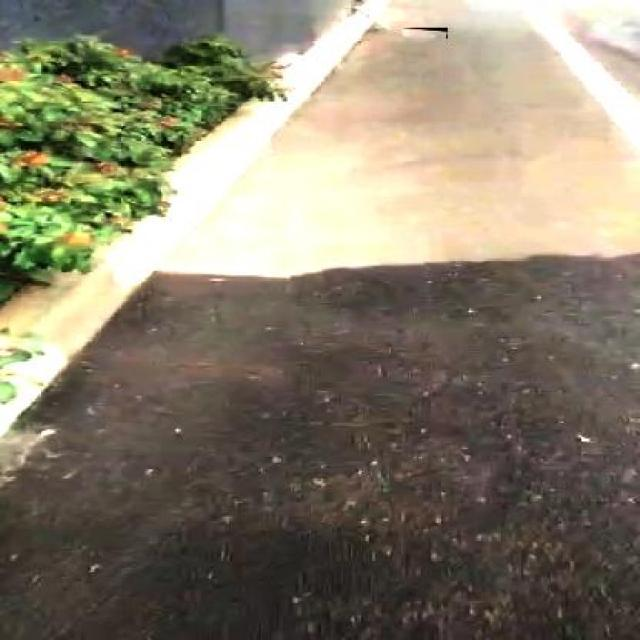Manhole: (402, 28, 448, 38)
